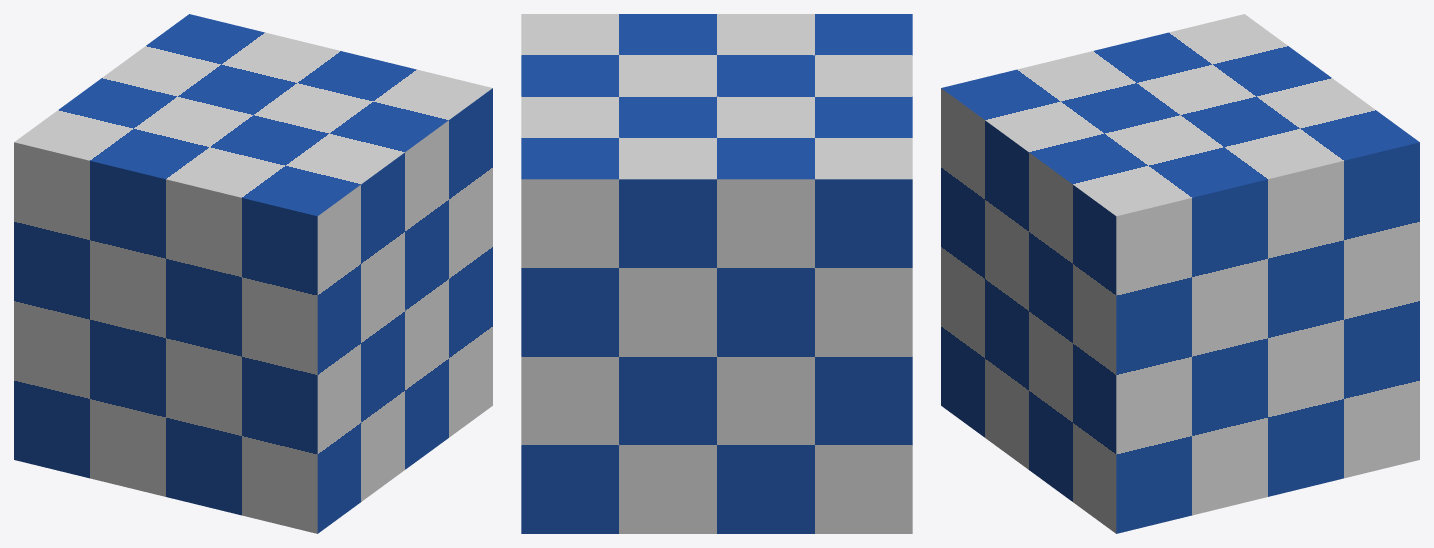
3 renders of one model, left to right at view 1: azimuth 30°, elevation 25°; view 2: azimuth 150°, elevation 25°; view 3: azimuth 270°, elevation 25°, orthographic. The views are drawn at different scales.
Visible parts, largest first — view 1: TexturedCube; view 2: TexturedCube; view 3: TexturedCube.
Part boxes in pixels (x1,y1,x2,y2): TexturedCube: (14, 14, 492, 533); TexturedCube: (521, 14, 912, 533); TexturedCube: (941, 14, 1419, 533).
Size of the model in its own units: 2.73 by 2 by 2.73.
Materials: 1 (1 with a texture image).
